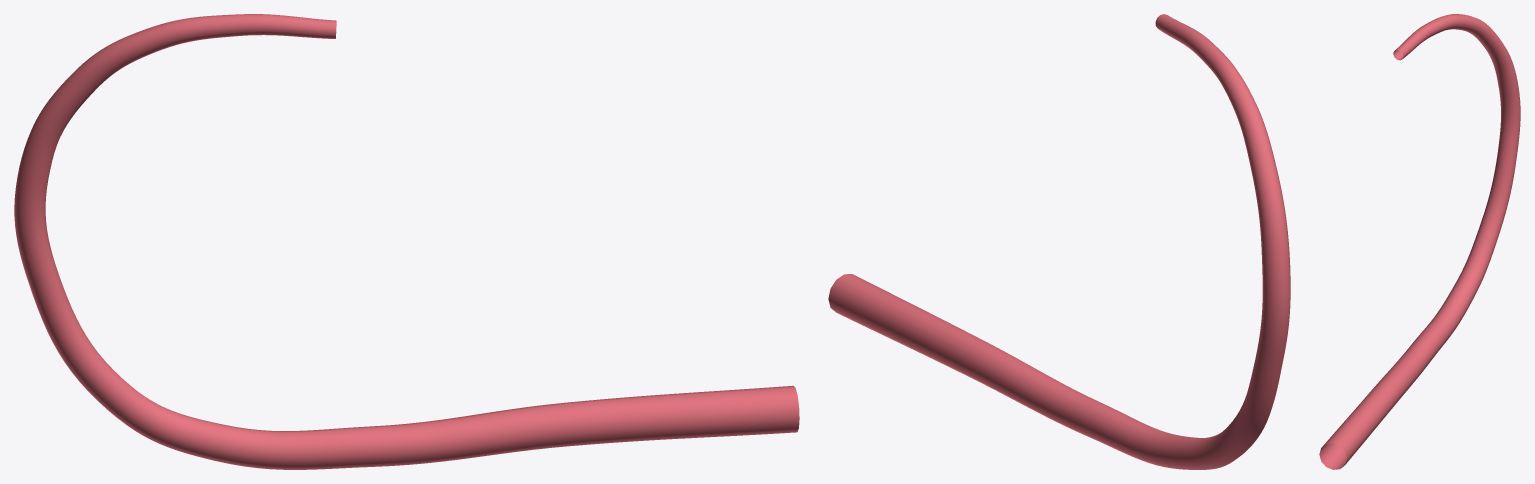
3 views of the same model, side by side, from view 1: azimuth 30°, elevation 25°; view 2: azimuth 150°, elevation 25°; view 3: azimuth 270°, elevation 25° (orthographic). The views are drawn at different scales.
Parts seen in each view (by area): view 1: ZA_bb78549f7638100a; view 2: ZA_bb78549f7638100a; view 3: ZA_bb78549f7638100a.
Part boxes in pixels (x1,y1,x2,y2): ZA_bb78549f7638100a: (14,14,799,469); ZA_bb78549f7638100a: (828,14,1290,469); ZA_bb78549f7638100a: (1319,14,1520,469).
Size of the model in its own units: 0.0475 by 0.0337 by 0.0205.
